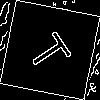T: (25, 25, 80, 76)
